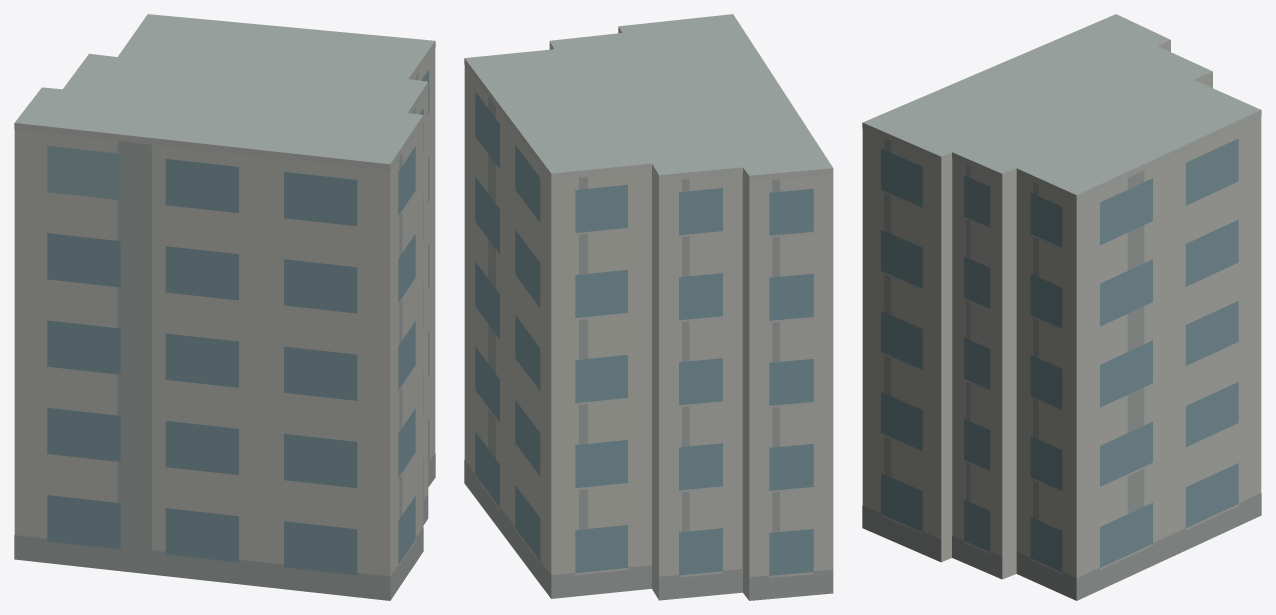
Rendered from survey-upis-32811188.glb.
The picture shows the model from 3 angles, left to right: view 1: azimuth 30°, elevation 25°; view 2: azimuth 150°, elevation 25°; view 3: azimuth 270°, elevation 25°; orthographic projection. The views are drawn at different scales.
Visible parts, largest first — view 1: survey-upis-32811188.tmp; view 2: survey-upis-32811188.tmp; view 3: survey-upis-32811188.tmp.
Boxes of the visible parts, box(x1,y1,x2,y2) form: survey-upis-32811188.tmp: box(14, 14, 435, 600); survey-upis-32811188.tmp: box(464, 14, 833, 600); survey-upis-32811188.tmp: box(862, 14, 1261, 600).
Bounding box in the file's own units: 15.06 × 15.7 × 14.
